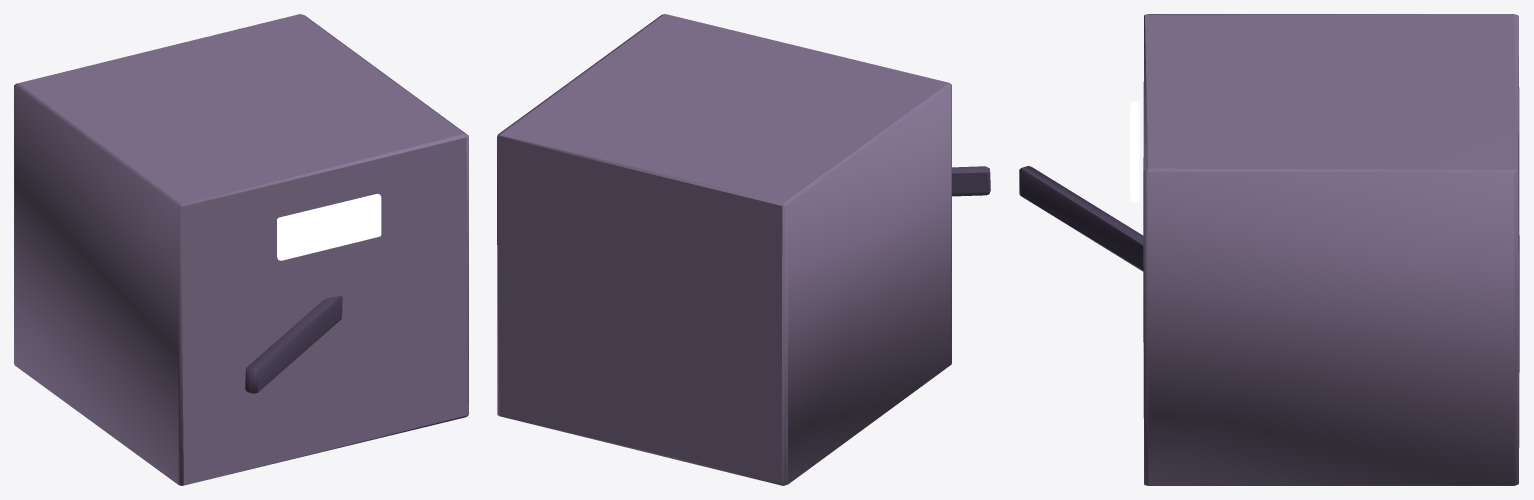
The model's file is SM_Labor_Crate_LOD1.fbx.
The picture shows the model from 3 angles, left to right: view 1: azimuth 30°, elevation 25°; view 2: azimuth 150°, elevation 25°; view 3: azimuth 270°, elevation 25°; orthographic projection. The views are drawn at different scales.
Parts seen in each view (by area): view 1: SM_Labor_Crate_LOD1; view 2: SM_Labor_Crate_LOD1; view 3: SM_Labor_Crate_LOD1.
Boxes of the visible parts, box(x1,y1,x2,y2) form: SM_Labor_Crate_LOD1: box(14, 14, 468, 485); SM_Labor_Crate_LOD1: box(497, 14, 990, 485); SM_Labor_Crate_LOD1: box(1019, 14, 1519, 485).
Bounding box in the file's own units: 1.39 × 1.3 × 1.86.
